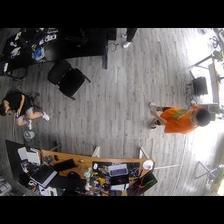normal: (146, 99, 211, 136)
